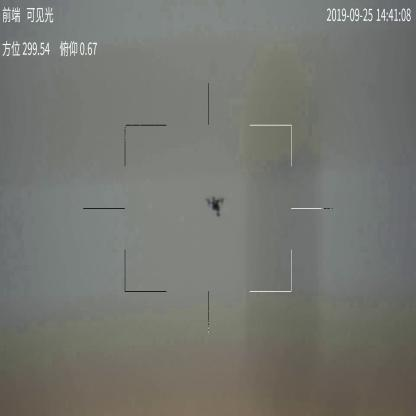uav: (204, 194, 225, 218)
